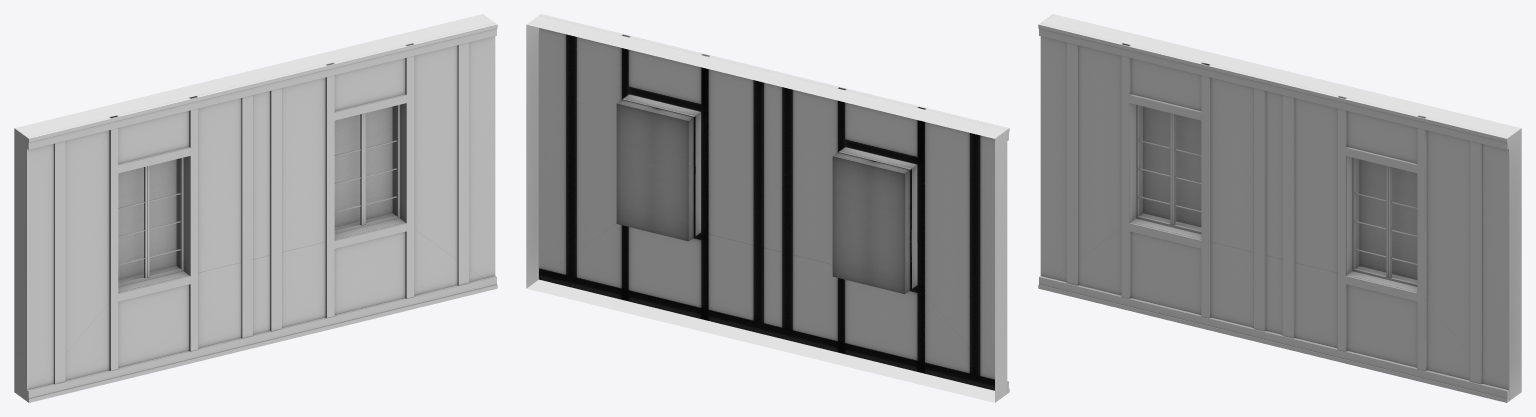
File: floorsecond_1.glb
The picture shows the model from 3 angles, left to right: view 1: azimuth 30°, elevation 25°; view 2: azimuth 150°, elevation 25°; view 3: azimuth 330°, elevation 25°; orthographic projection.
Parts seen in each view (by area): view 1: floorsecond_1; view 2: floorsecond_1; view 3: floorsecond_1.
Boxes of the visible parts, bbox=[...] form: floorsecond_1: bbox=[14, 14, 497, 402]; floorsecond_1: bbox=[526, 14, 1009, 402]; floorsecond_1: bbox=[1038, 14, 1521, 402].
Bounding box in the file's own units: 6.5 × 3.5 × 0.3508.
Materials: 1 (1 with a texture image).
